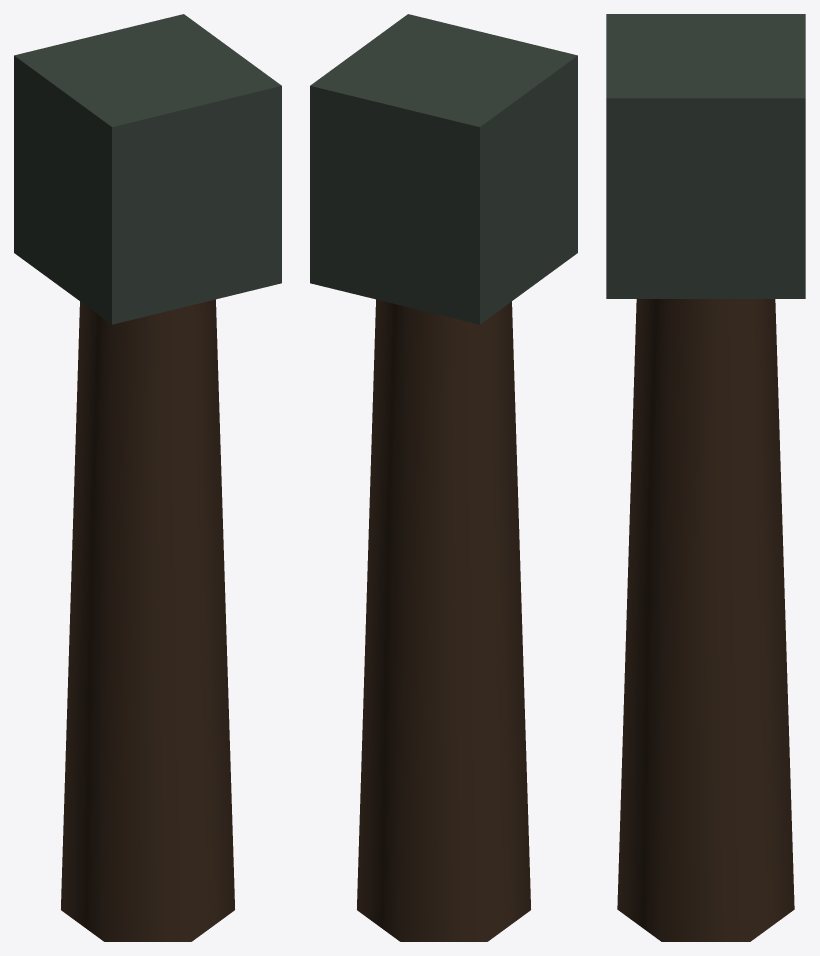
The model's file is spirit_lantern.glb.
3 renders of one model, left to right at view 1: azimuth 30°, elevation 25°; view 2: azimuth 150°, elevation 25°; view 3: azimuth 270°, elevation 25°, orthographic.
Size of the model in its own units: 0.36 by 1.7 by 0.36.
